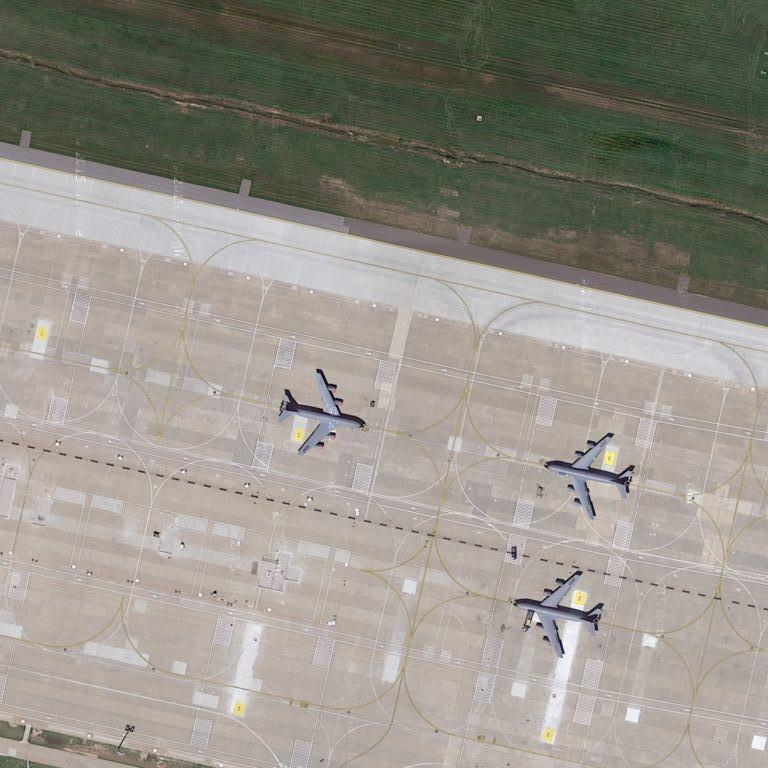KC-135: (539, 428, 641, 525), (510, 568, 611, 661), (273, 364, 369, 460)
